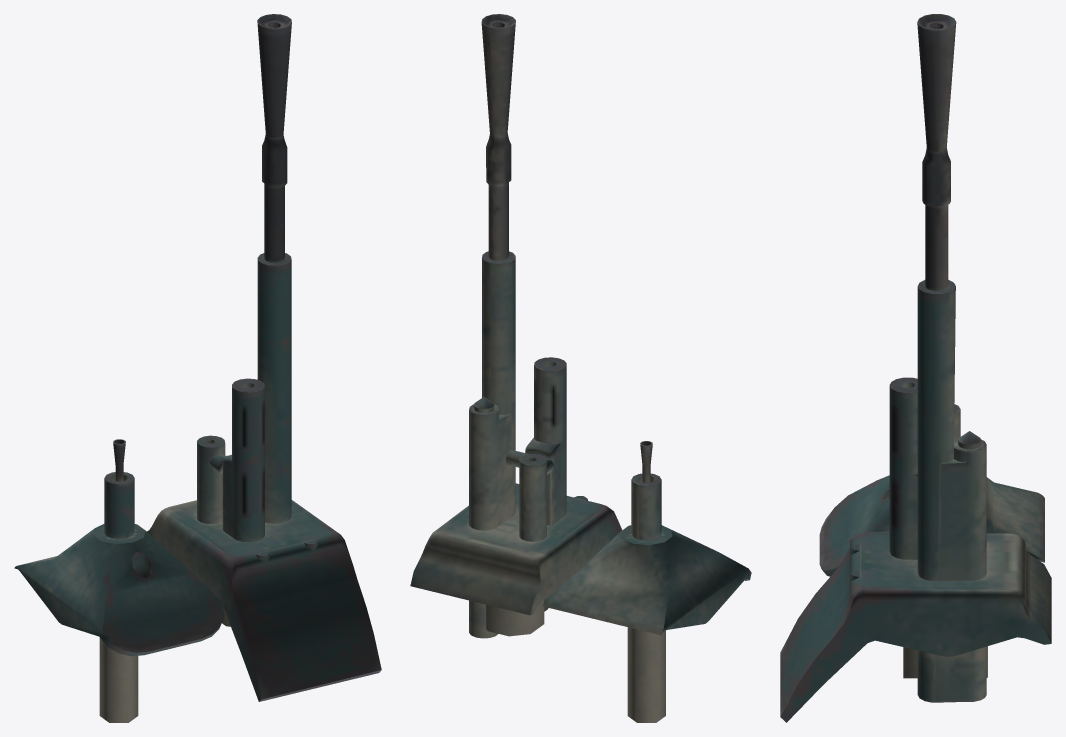
The model's file is Gun_06.glb.
3 renders of one model, left to right at view 1: azimuth 30°, elevation 25°; view 2: azimuth 150°, elevation 25°; view 3: azimuth 270°, elevation 25°, orthographic. The views are drawn at different scales.
Parts seen in each view (by area): view 1: set_0_group_0; view 2: set_0_group_0; view 3: set_0_group_0.
Part boxes in pixels (x1,y1,x2,y2): set_0_group_0: (14,14,381,722); set_0_group_0: (410,14,751,722); set_0_group_0: (780,14,1051,722).
Bounding box in the file's own units: 0.5708 × 1.44 × 0.4834.
Materials: 1 (1 with a texture image).
